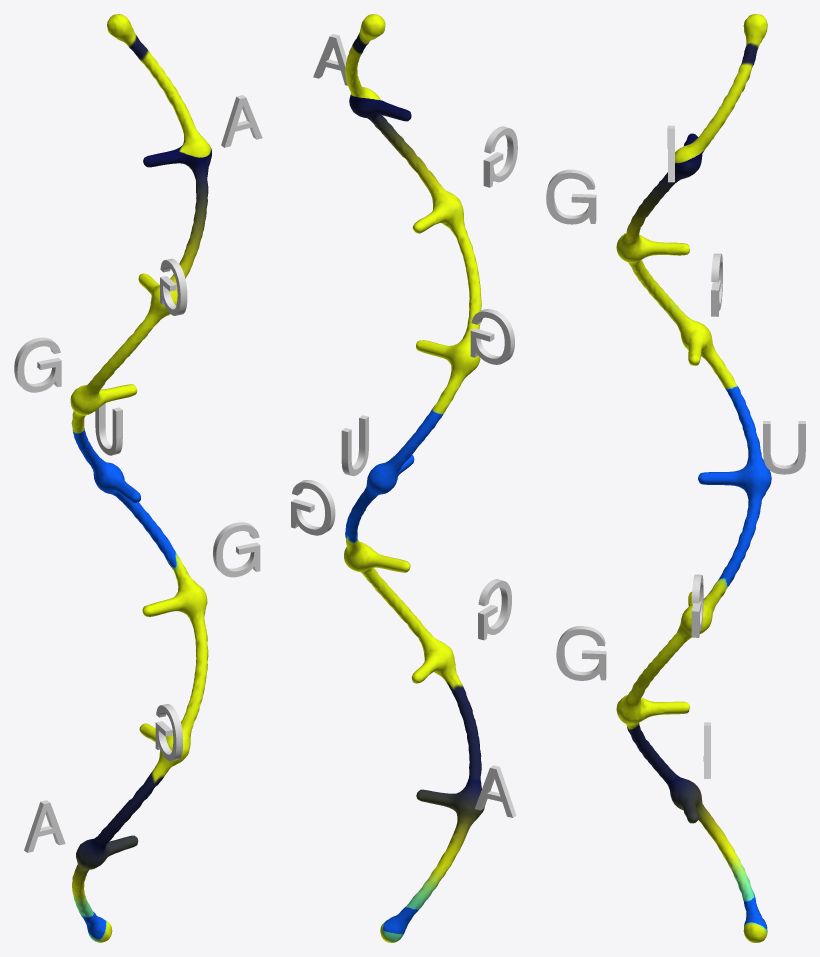
File: RNA.dae
3 renders of one model, left to right at view 1: azimuth 30°, elevation 25°; view 2: azimuth 150°, elevation 25°; view 3: azimuth 270°, elevation 25°, orthographic.
Parts seen in each view (by area): view 1: Metaball, G (×4), A (×2), U; view 2: Metaball, G (×4), A (×2), U; view 3: Metaball, G (×4), U.
Boxes of the visible parts, x1=… form: Metaball: x1=70, y1=14, x2=211, y2=942; G (×4): x1=14, y1=258, x2=260, y2=761; A (×2): x1=24, y1=95, x2=262, y2=852; U: x1=95, y1=403, x2=122, y2=455; Metaball: x1=344, y1=14, x2=484, y2=942; G (×4): x1=291, y1=126, x2=517, y2=640; A (×2): x1=313, y1=34, x2=516, y2=817; U: x1=341, y1=415, x2=368, y2=476; Metaball: x1=616, y1=14, x2=771, y2=942; G (×4): x1=546, y1=169, x2=722, y2=680; U: x1=763, y1=421, x2=805, y2=474.
Bounding box in the file's own units: 108 × 409 × 103.
1 material, 1 textured.
